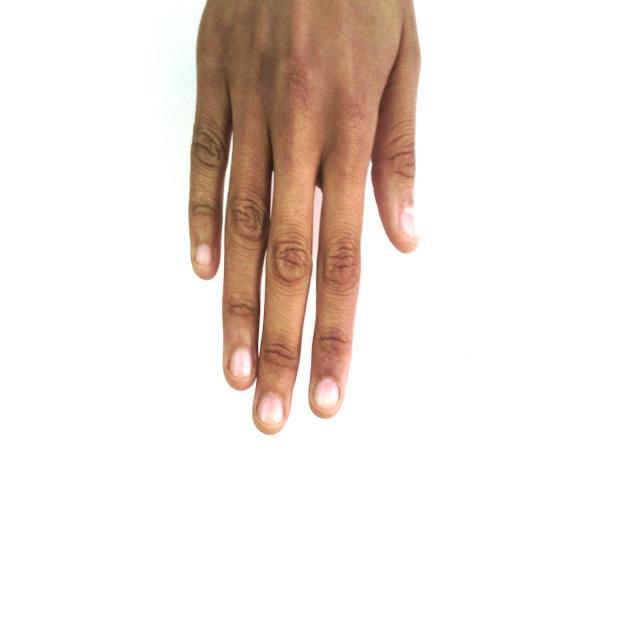Fingernail: (314, 378, 338, 412), (259, 394, 283, 424), (230, 348, 253, 378), (401, 204, 417, 238), (196, 244, 212, 266)
